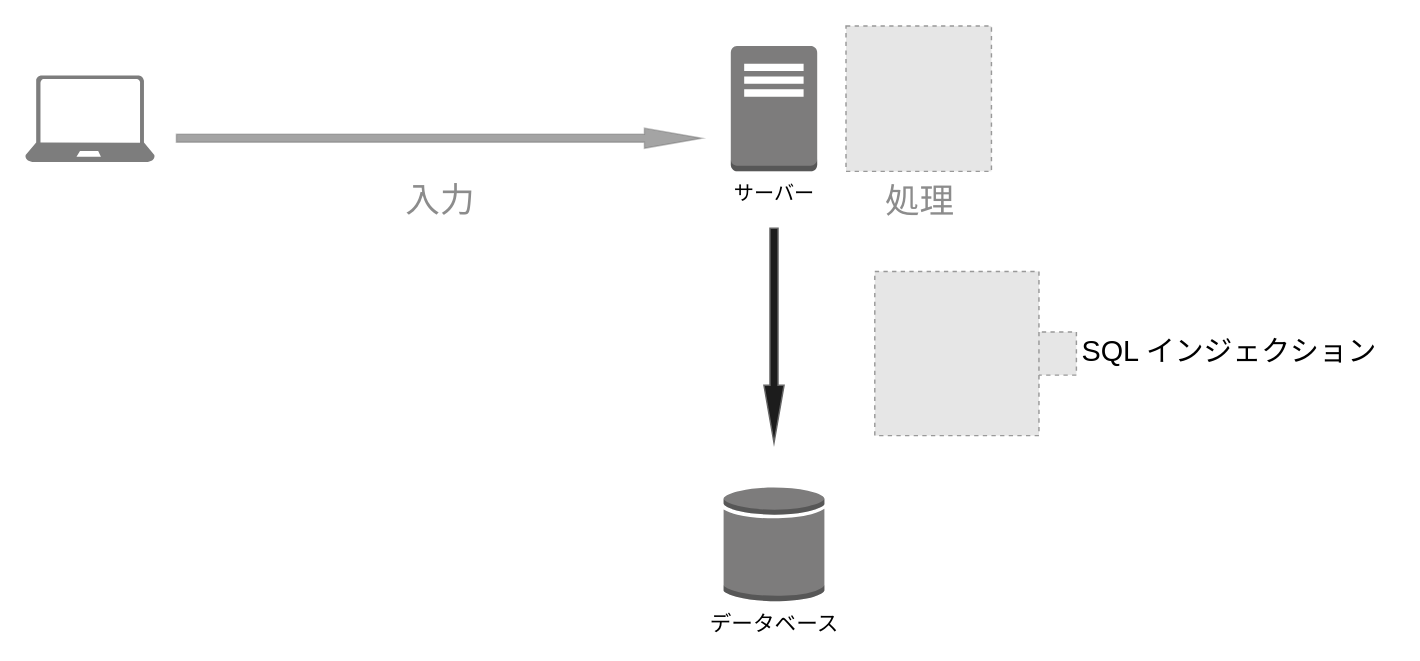
The diagram is 1420 pixels wide and 661 high, and some of its shapes have lost their labels. Grey dashed boxes stand in for pictures. Here are the shapes that lost their labels. From the top down, the box of each, then its label:
(24, 75, 154, 161): ブラウザ
(762, 227, 784, 443): 出力
